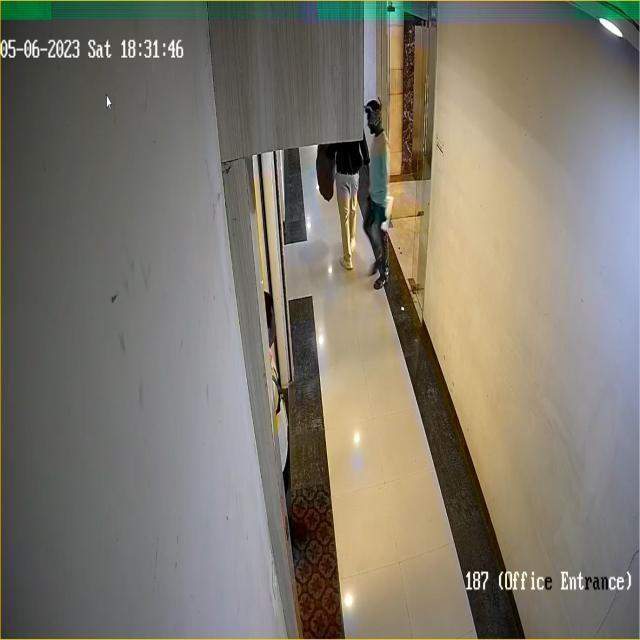gunny_bag: (316, 145, 334, 205)
